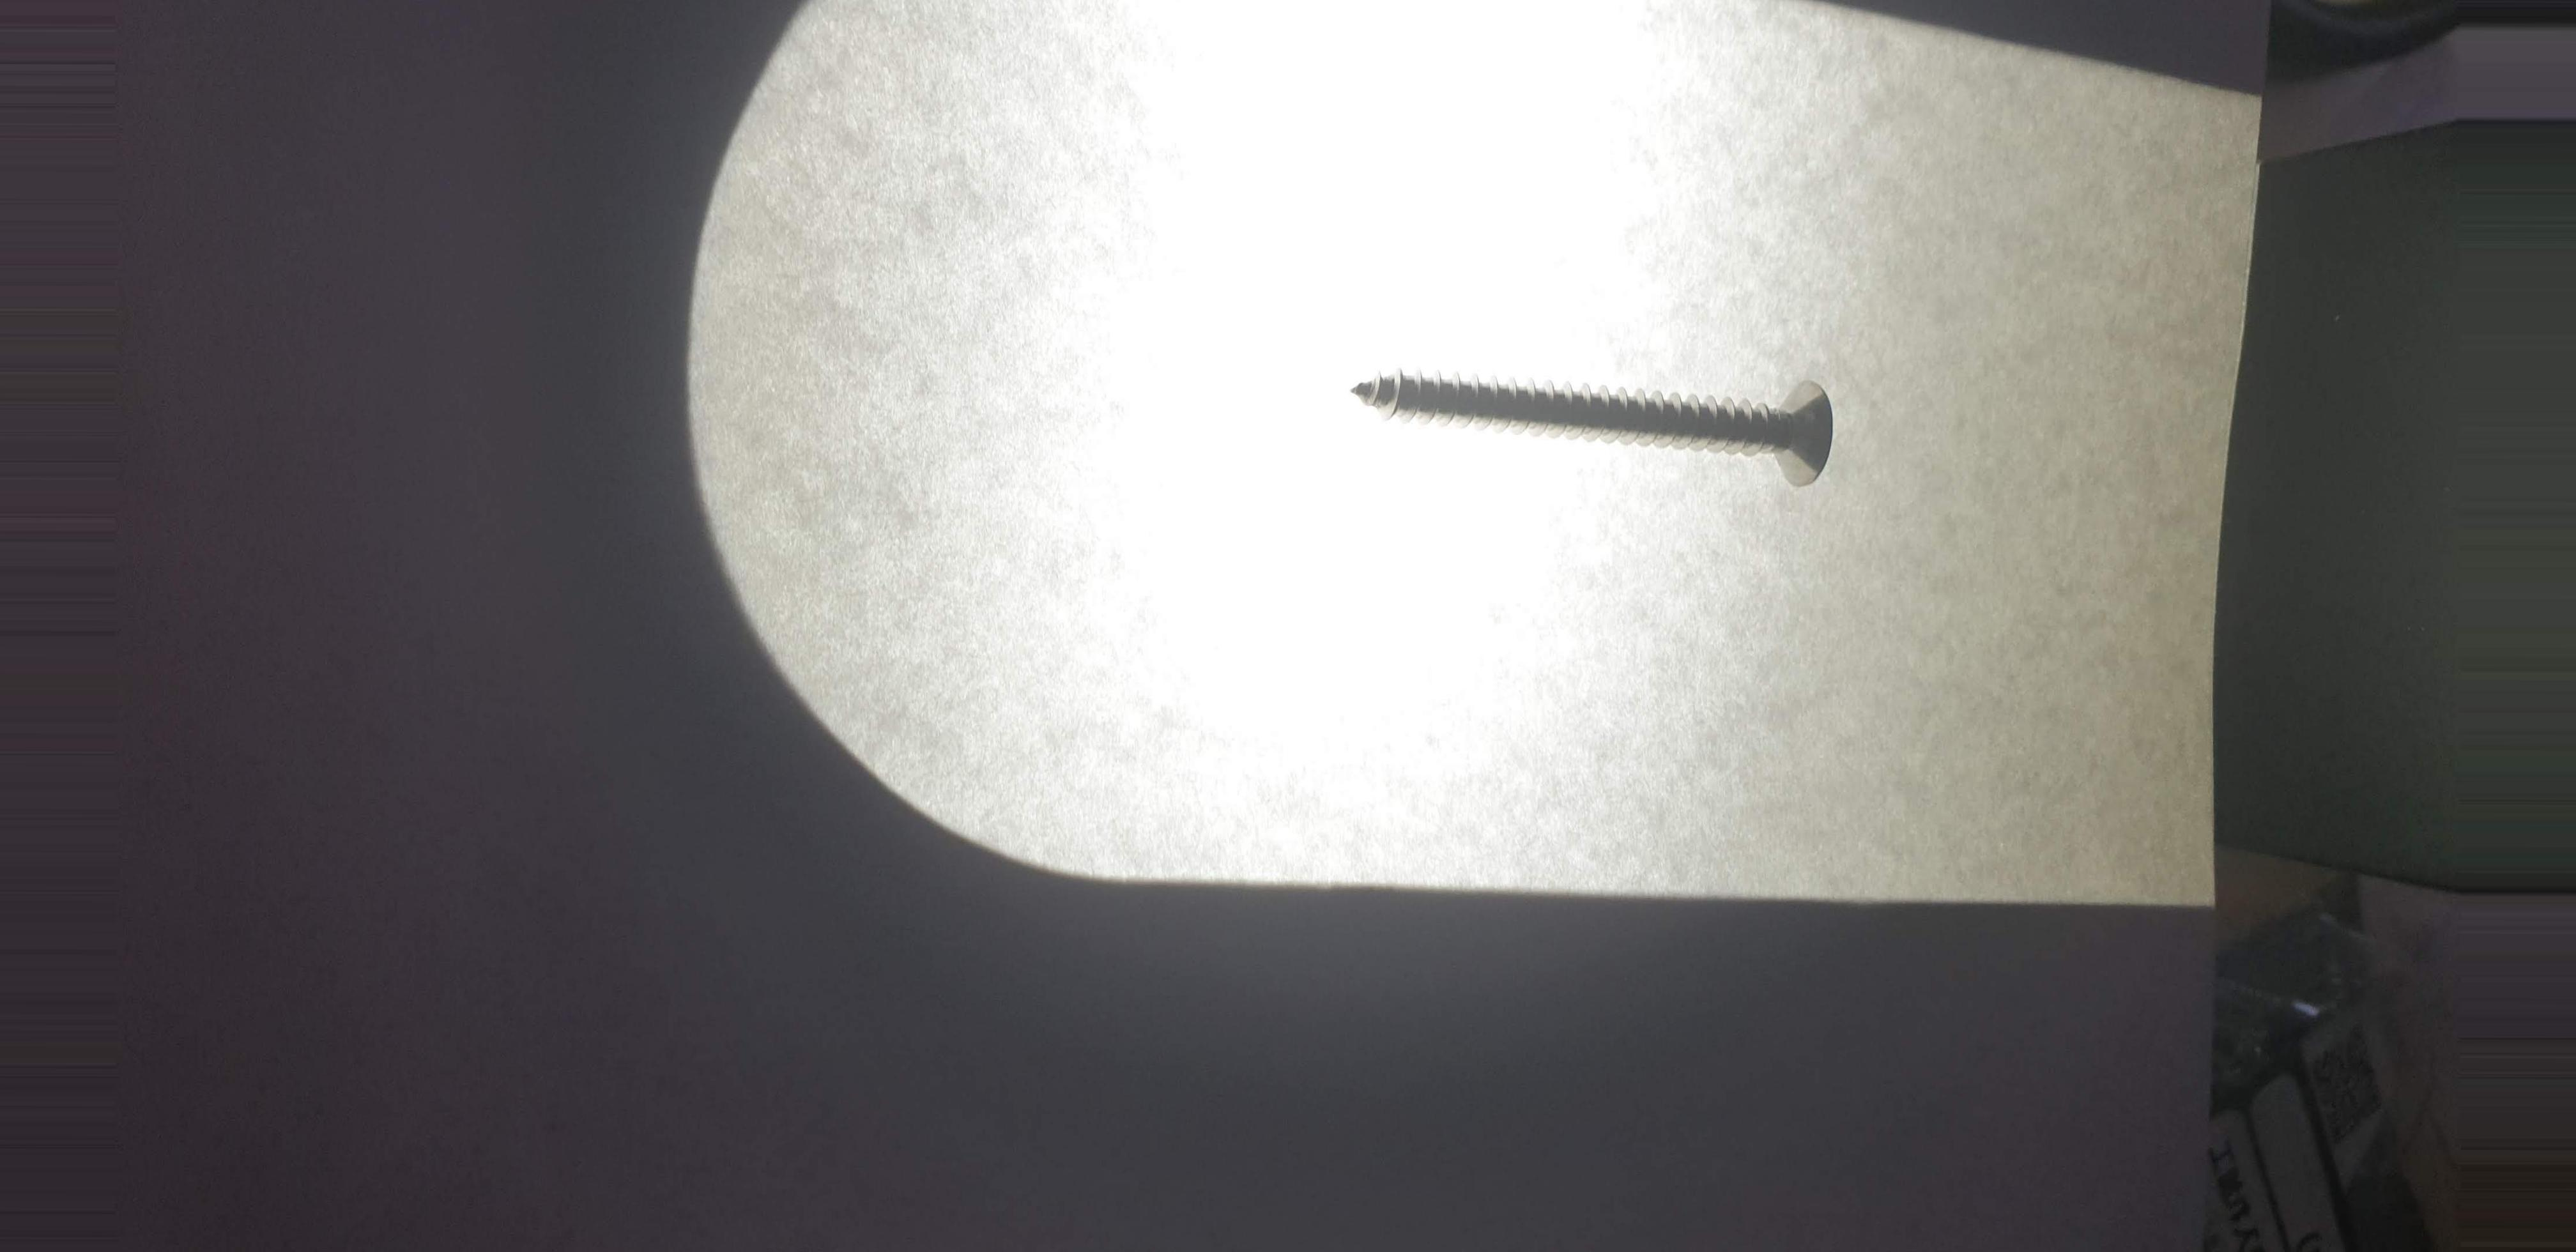S001: (1306, 325, 1886, 516)
